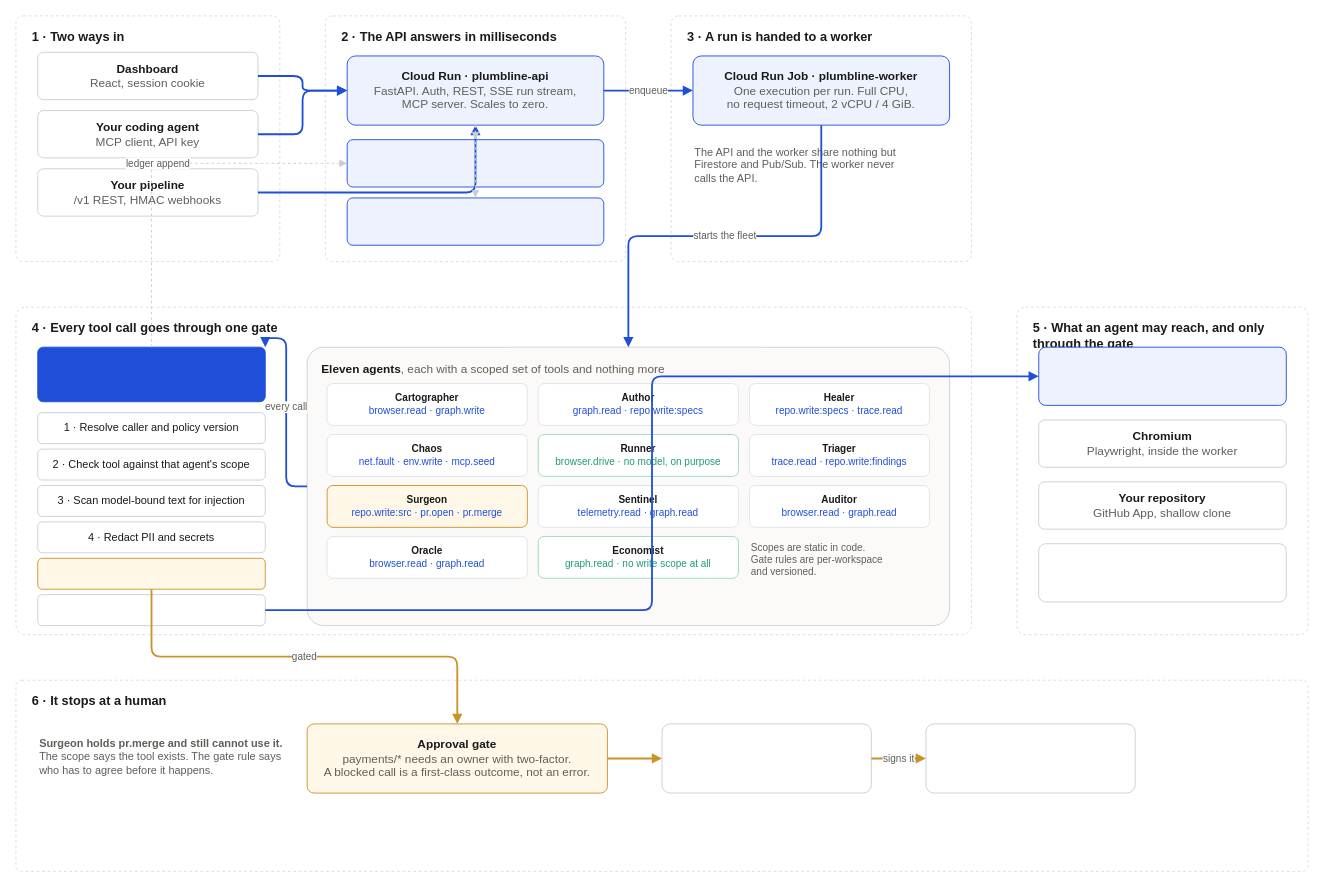
Image size: 1324x887. Some labels were removed from this diagram. Here are the shapes that lost their labels. From the top down, the centre of each, then its label:
At point (475, 163): "Firestore State, and the append-only ledger".
At point (475, 221): "Pub/Sub run.requested · run.step · run.finished".
At point (151, 374): "The Gateway One function. No second path.".
At point (1162, 375): "Vertex AI gemini-3.5-flash, on the global endpoint".
At point (151, 573): "5 · Gate rules: does a human have to sign?".
At point (1162, 572): "Your MCP servers Manifest screened for injection before it reaches a prompt".
At point (151, 610): "6 · Execute, append to ledger, emit span".
At point (766, 758): "A person Approves, rejects, or requests changes".
At point (1030, 758): "Pull request A fresh branch, never your default branch".
